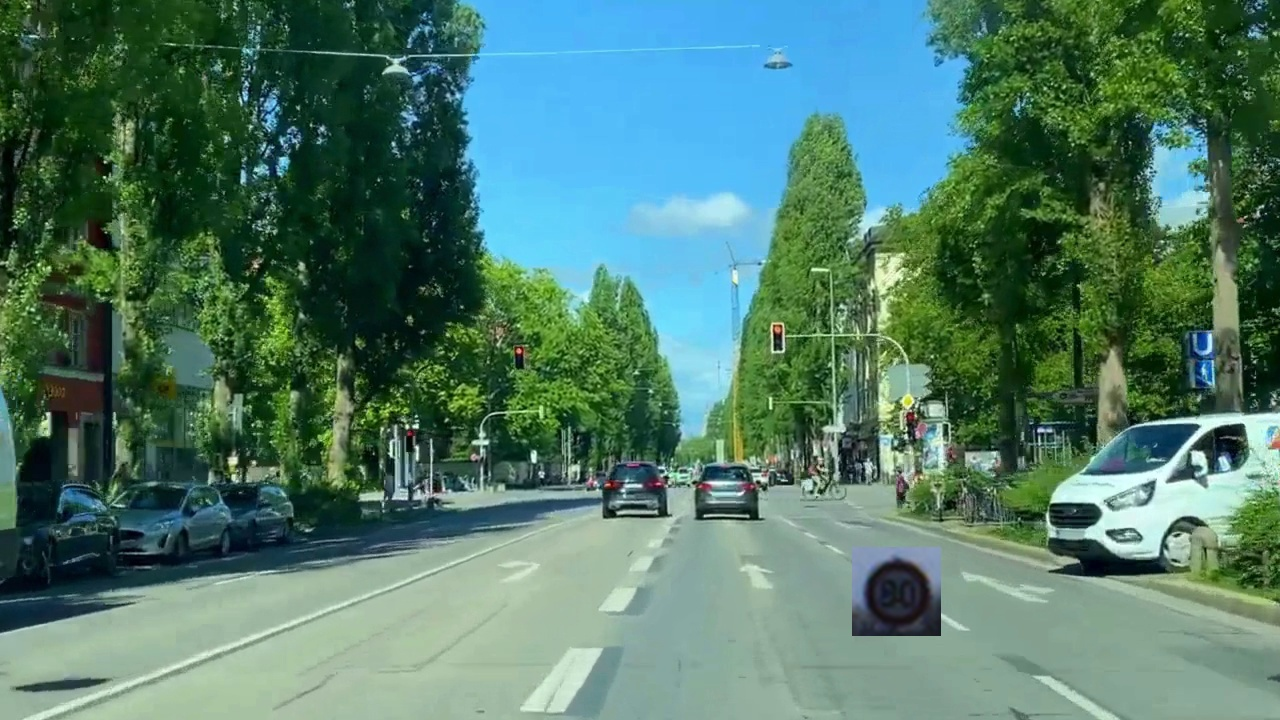Speed 80: (852, 547, 941, 636)
